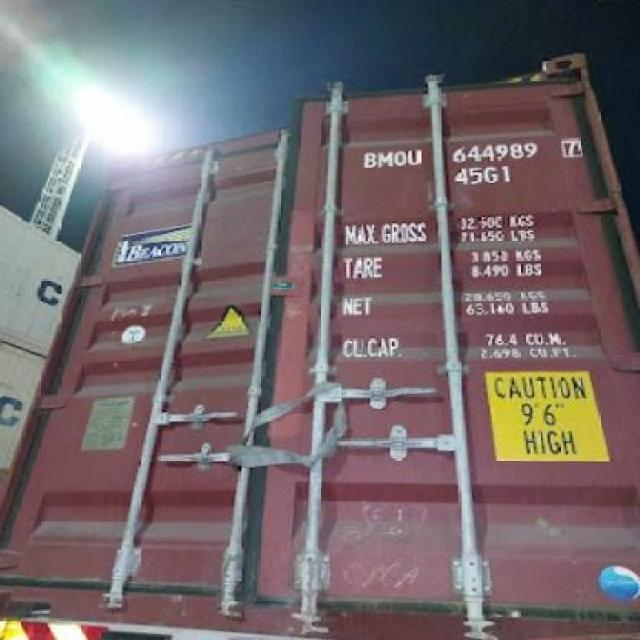ISO: (455, 162, 513, 186)
container_number: (362, 132, 570, 164)
